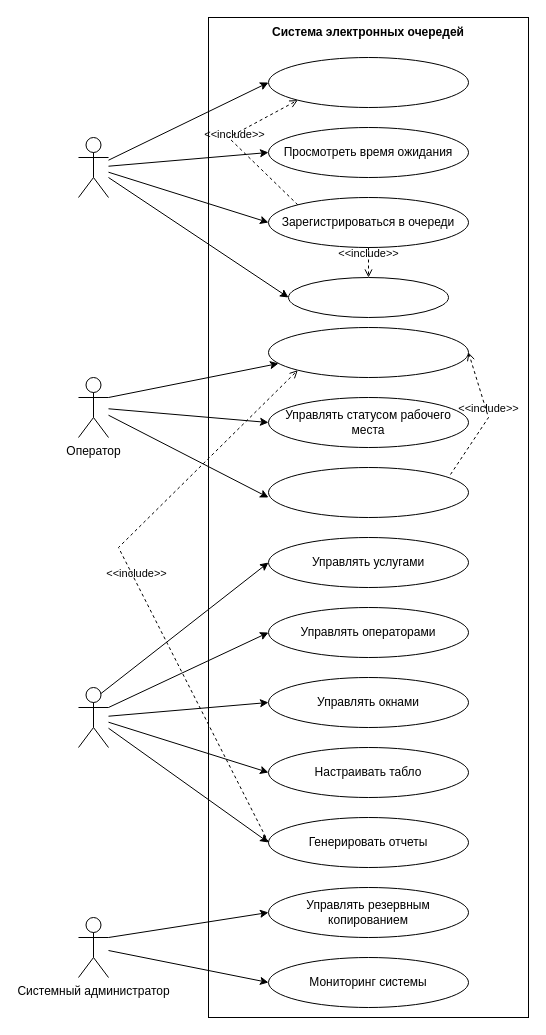
Image size: 546x1035. Some labels were removed from this diagram. Each missing label, with the centre of its shape:
"Администратор" goes at point 93,717.
"Выбрать услугу" goes at point 368,297.
"Вызвать следующего клиента" goes at point 368,492.
"Клиент" goes at point 93,167.
"Получить электронный талон" goes at point 368,82.
"Промотреть информацию о клиенте" goes at point 368,352.
